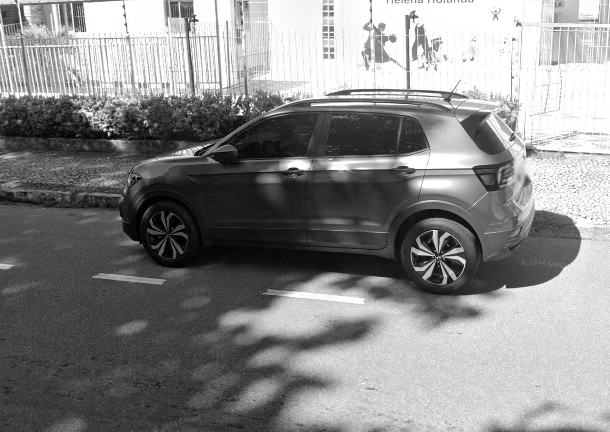car: (115, 78, 537, 297)
